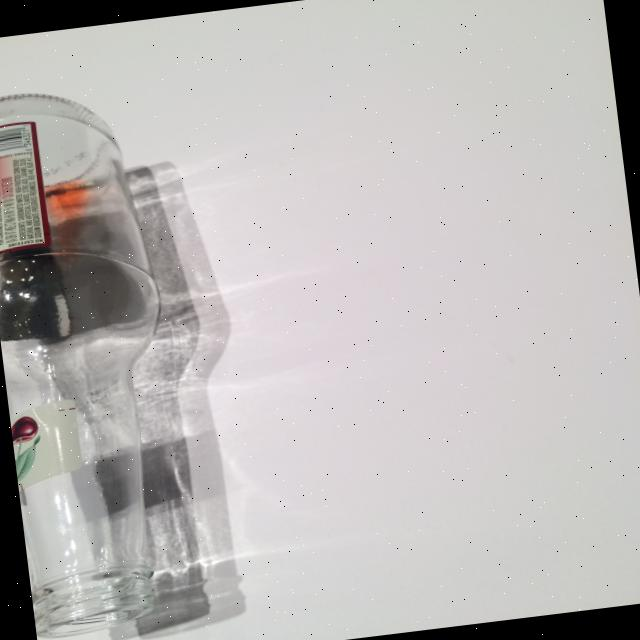glass: (0, 78, 200, 640)
